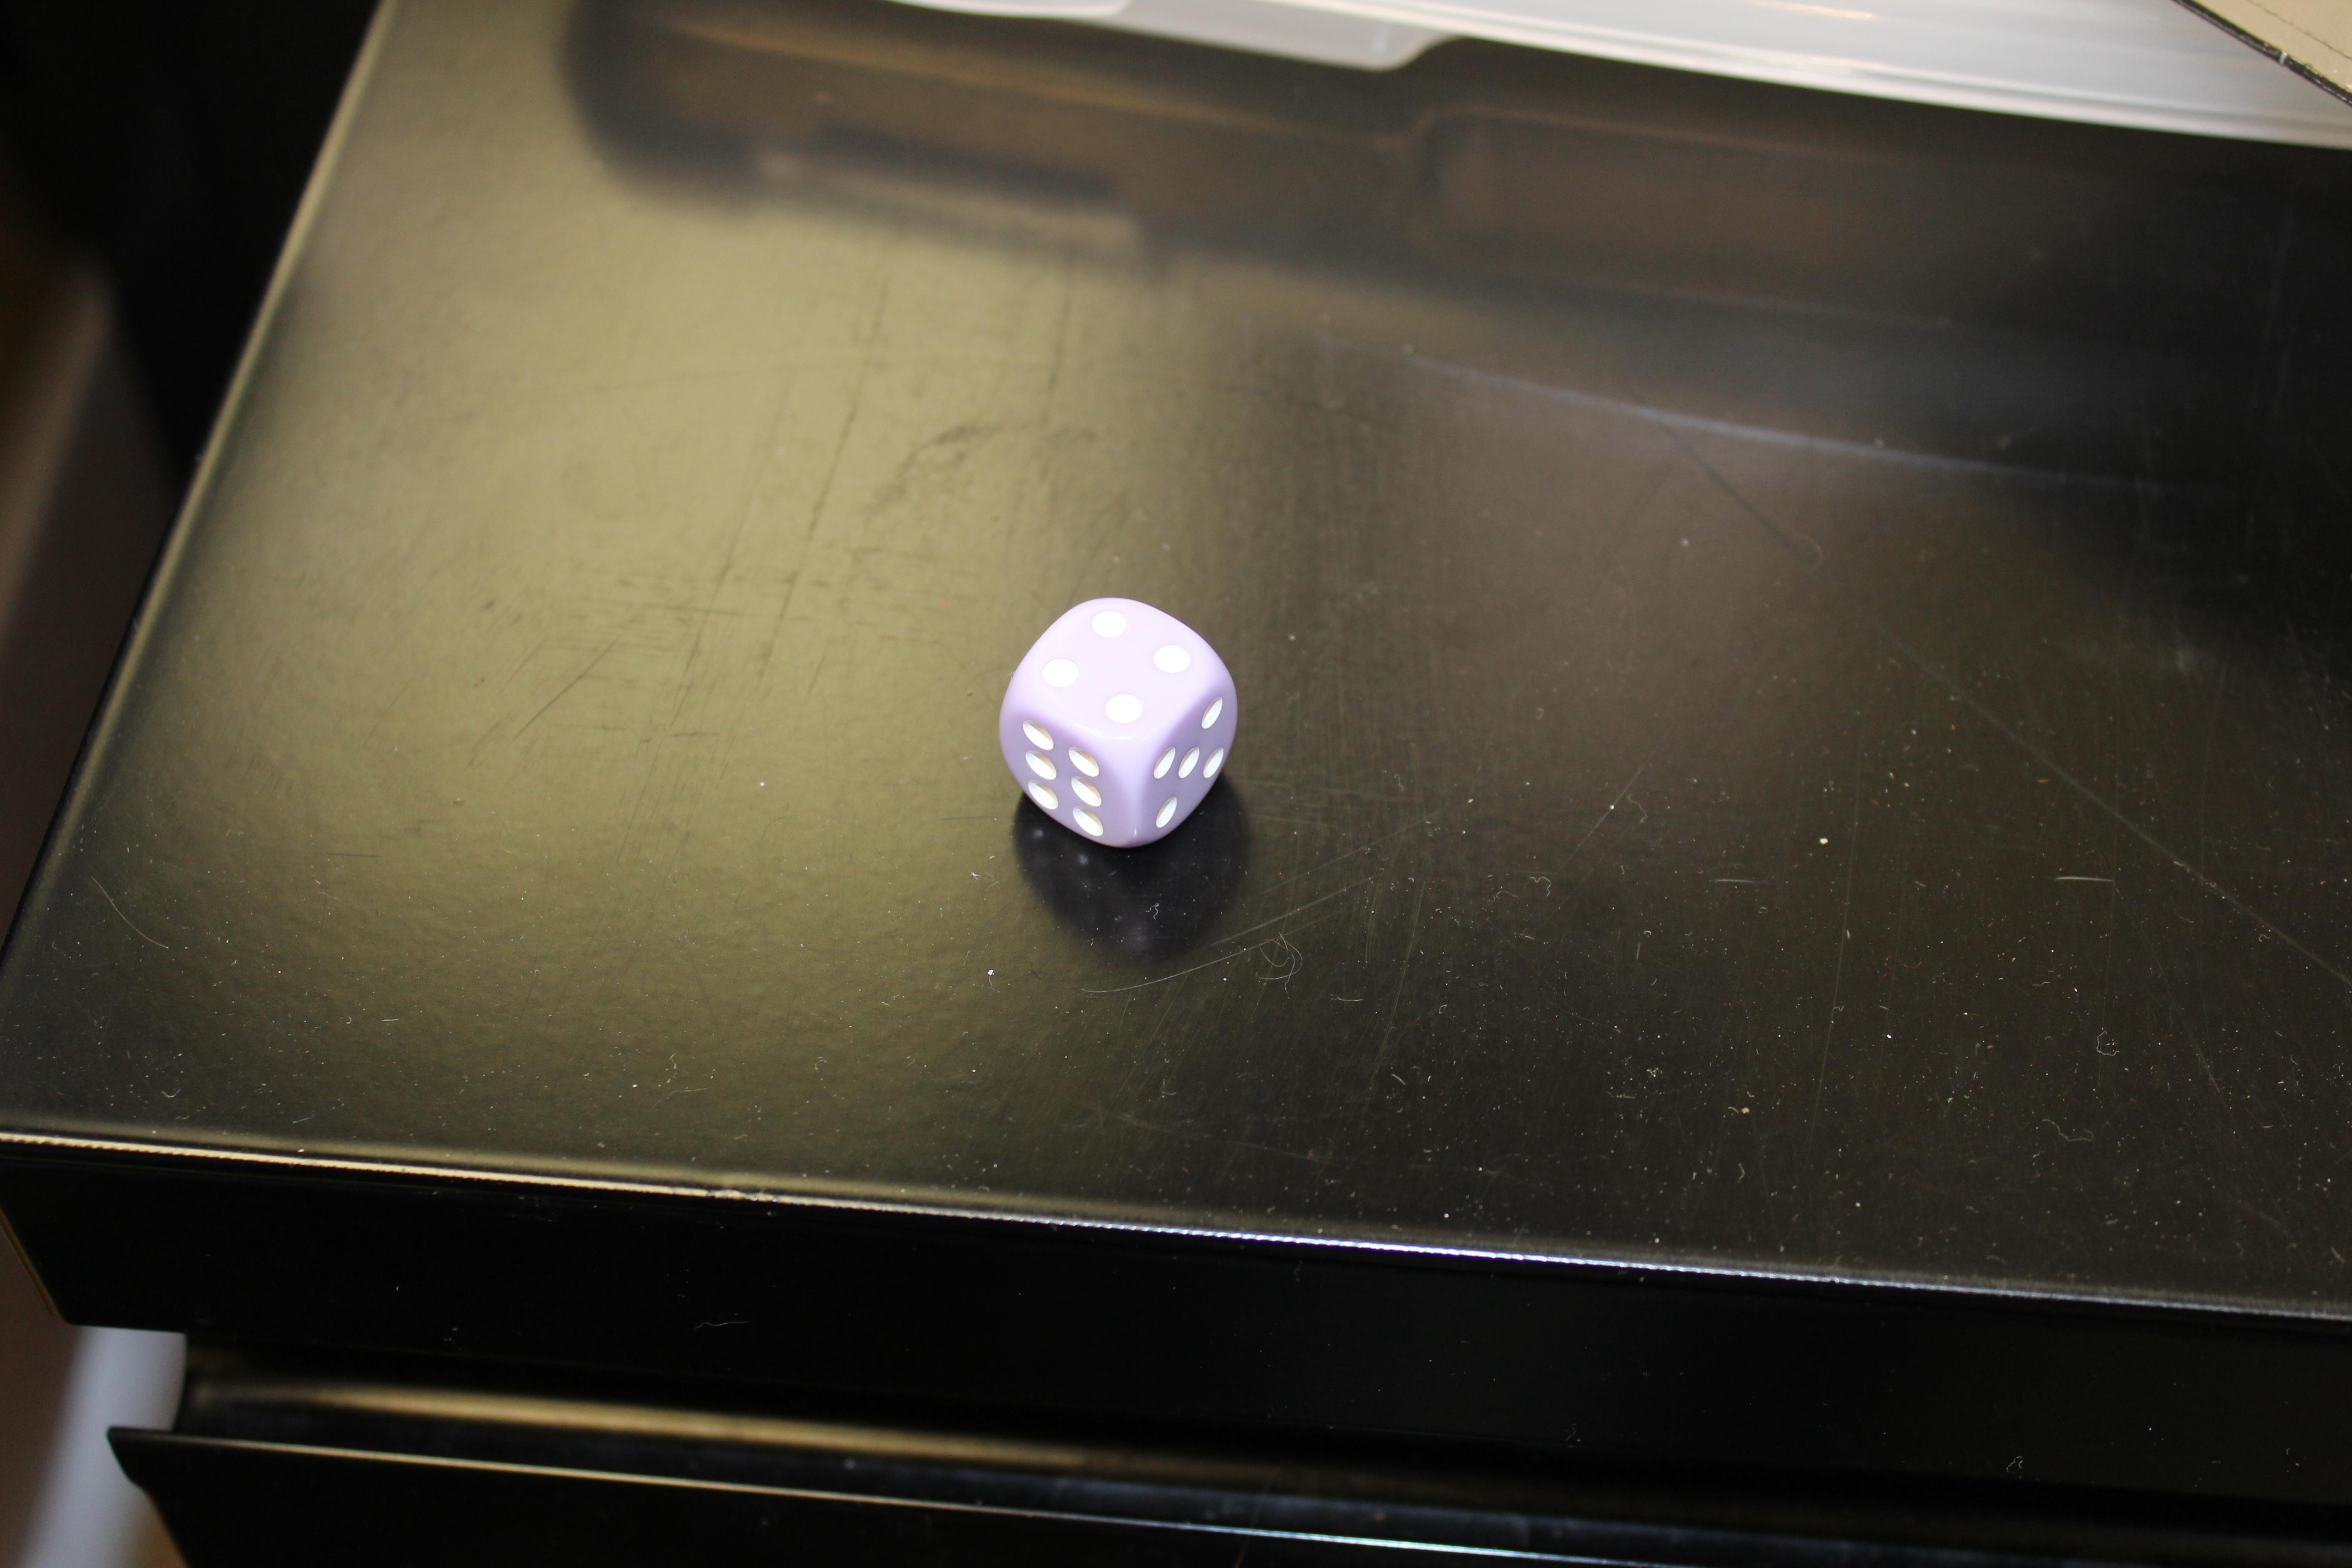lavenderDie: (970, 560, 1279, 884)
